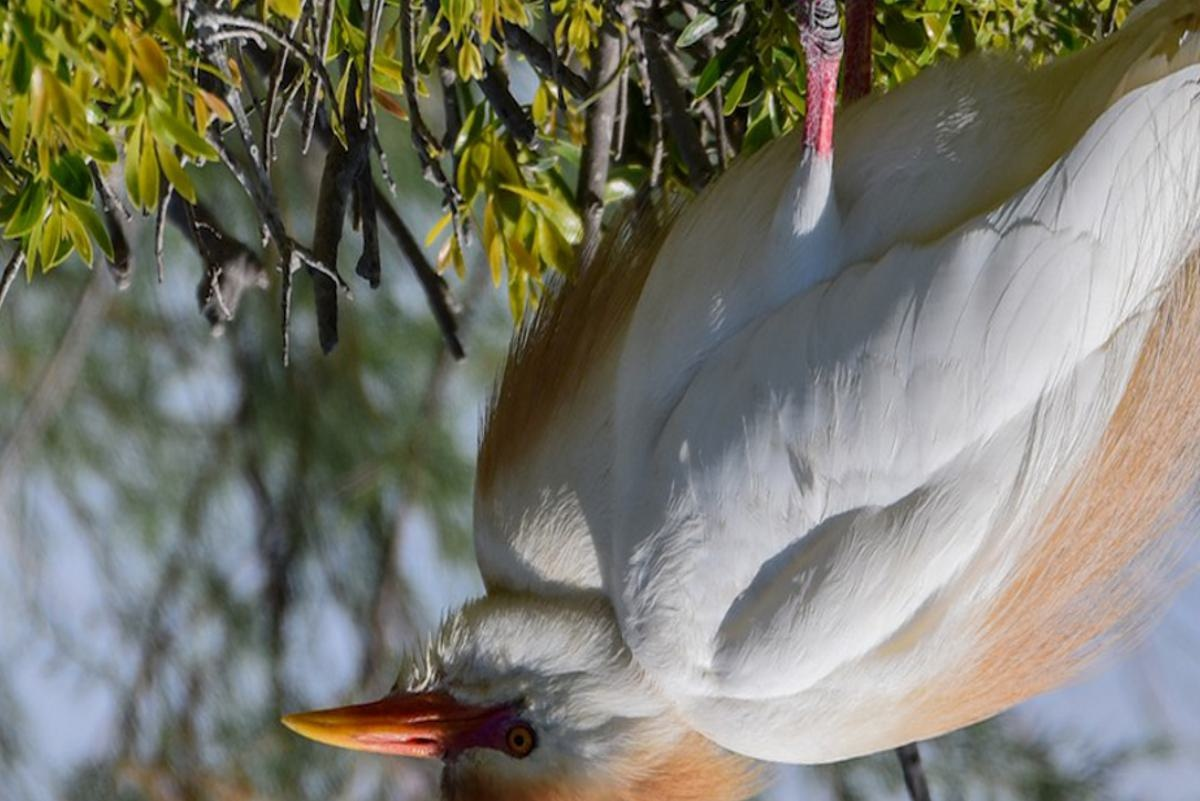egret: (278, 1, 1200, 793)
